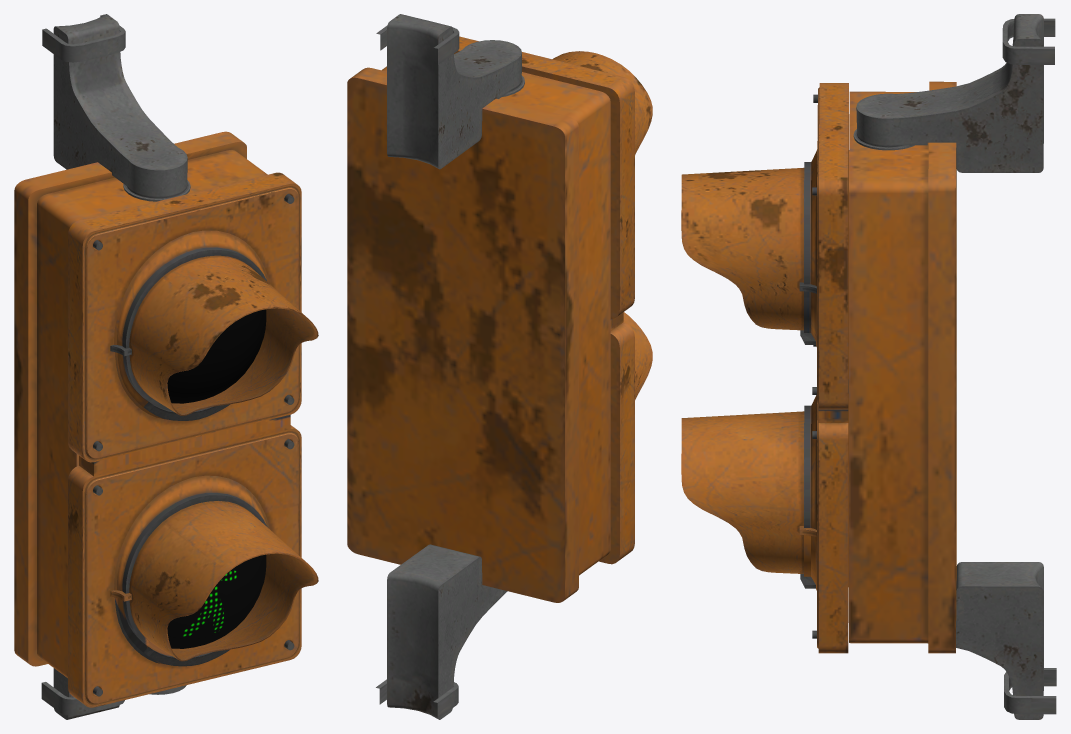
File: SM_Traffic_Light.glb
3 renders of one model, left to right at view 1: azimuth 30°, elevation 25°; view 2: azimuth 150°, elevation 25°; view 3: azimuth 270°, elevation 25°, orthographic.
Visible parts, largest first — view 1: SM_Traffic_Light; view 2: SM_Traffic_Light; view 3: SM_Traffic_Light.
Boxes of the visible parts, <box> form: SM_Traffic_Light: <box>14,14,318,719</box>; SM_Traffic_Light: <box>347,14,652,719</box>; SM_Traffic_Light: <box>681,14,1056,719</box>.
Bounding box in the file's own units: 0.1513 × 0.4524 × 0.2258.
Materials: 4 (3 with a texture image).
